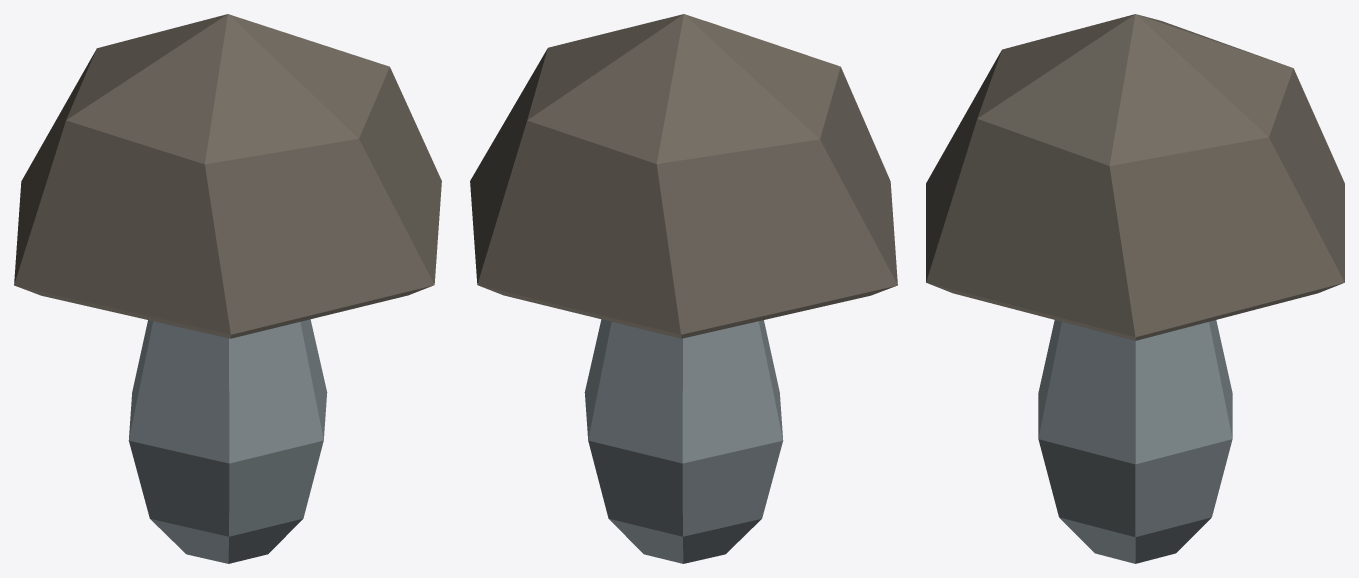
The model's file is Mushroom-B03.fbx.
The picture shows the model from 3 angles, left to right: view 1: azimuth 30°, elevation 25°; view 2: azimuth 150°, elevation 25°; view 3: azimuth 270°, elevation 25°; orthographic projection.
Parts seen in each view (by area): view 1: Mushroom-B03; view 2: Mushroom-B03; view 3: Mushroom-B03.
Boxes of the visible parts, x1,y1,x2,y2 form: Mushroom-B03: (14,14,441,563); Mushroom-B03: (470,14,897,563); Mushroom-B03: (926,14,1344,563).
Size of the model in its own units: 71.62 by 84.8 by 60.77.
